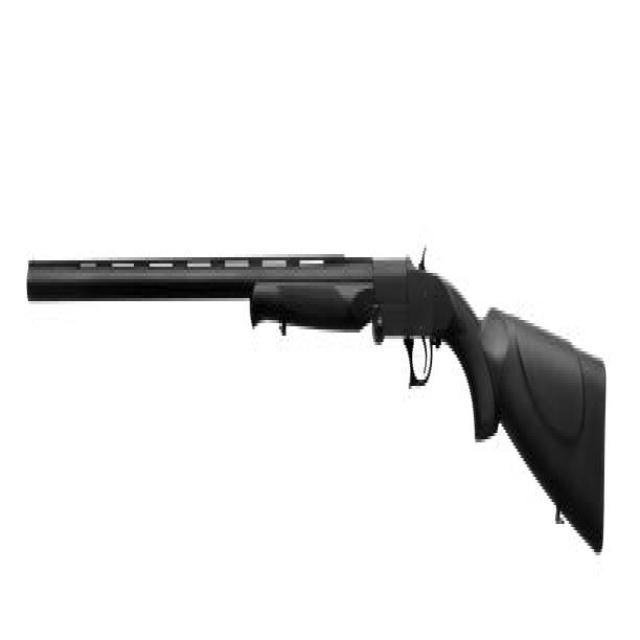rifle: (22, 222, 613, 583)
